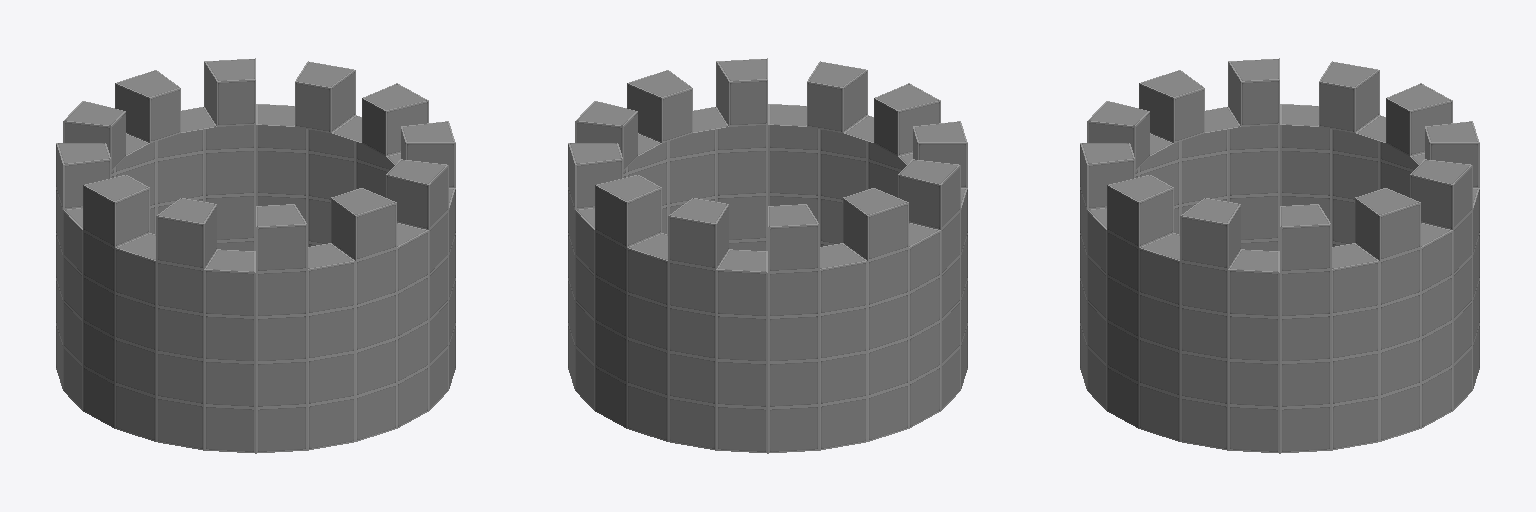
3 views of the same model, side by side, from view 1: azimuth 30°, elevation 25°; view 2: azimuth 150°, elevation 25°; view 3: azimuth 270°, elevation 25° (orthographic).
Visible parts, largest first — view 1: SanctuaryTowersColumnTop; view 2: SanctuaryTowersColumnTop; view 3: SanctuaryTowersColumnTop.
Boxes of the visible parts, <box> form: SanctuaryTowersColumnTop: <box>56,58,455,453</box>; SanctuaryTowersColumnTop: <box>568,58,967,453</box>; SanctuaryTowersColumnTop: <box>1080,58,1479,453</box>.
Size of the model in its own units: 16 by 10 by 16.
2 materials, 1 textured.